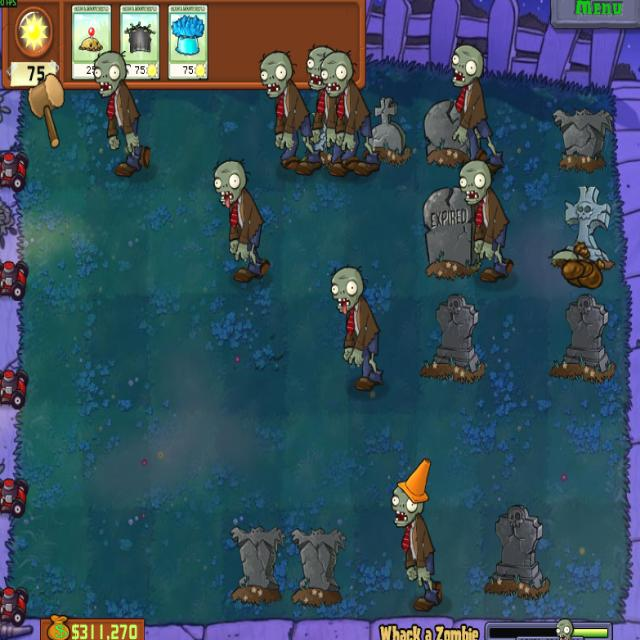conehead: (390, 455, 431, 528)
grave: (485, 506, 546, 601), (420, 188, 480, 280), (552, 292, 614, 380), (423, 295, 484, 384), (288, 524, 347, 606), (559, 184, 612, 268), (229, 524, 284, 600), (552, 105, 612, 172), (422, 96, 475, 164), (362, 98, 411, 162)
gravebuster: (120, 5, 160, 80)
zombie: (328, 265, 365, 316), (258, 49, 294, 96), (212, 160, 247, 208), (91, 52, 127, 96), (459, 157, 492, 205), (449, 43, 485, 87), (320, 51, 353, 97), (302, 46, 333, 90), (549, 248, 577, 262)
